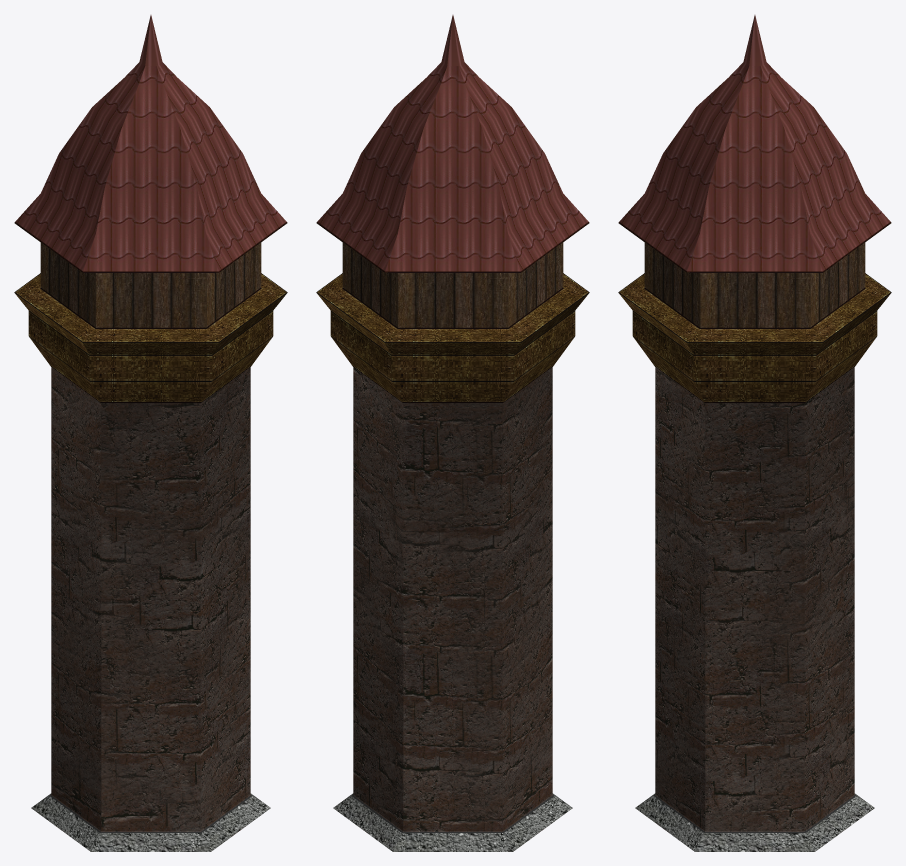
The model's file is mage_tower.obj.
3 views of the same model, side by side, from view 1: azimuth 30°, elevation 25°; view 2: azimuth 150°, elevation 25°; view 3: azimuth 270°, elevation 25° (orthographic).
Parts seen in each view (by area): view 1: Circle; view 2: Circle; view 3: Circle.
Boxes of the visible parts, box(x1,y1,x2,y2) form: Circle: box(14, 15, 287, 851); Circle: box(316, 15, 589, 851); Circle: box(618, 15, 891, 851).
Bounding box in the file's own units: 2.21 × 8.15 × 2.55.
Materials: 1 (1 with a texture image).
